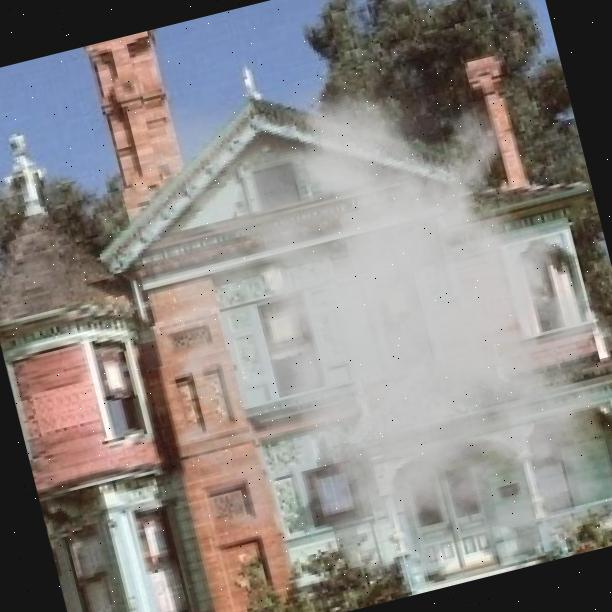smoke: (30, 0, 612, 612)
